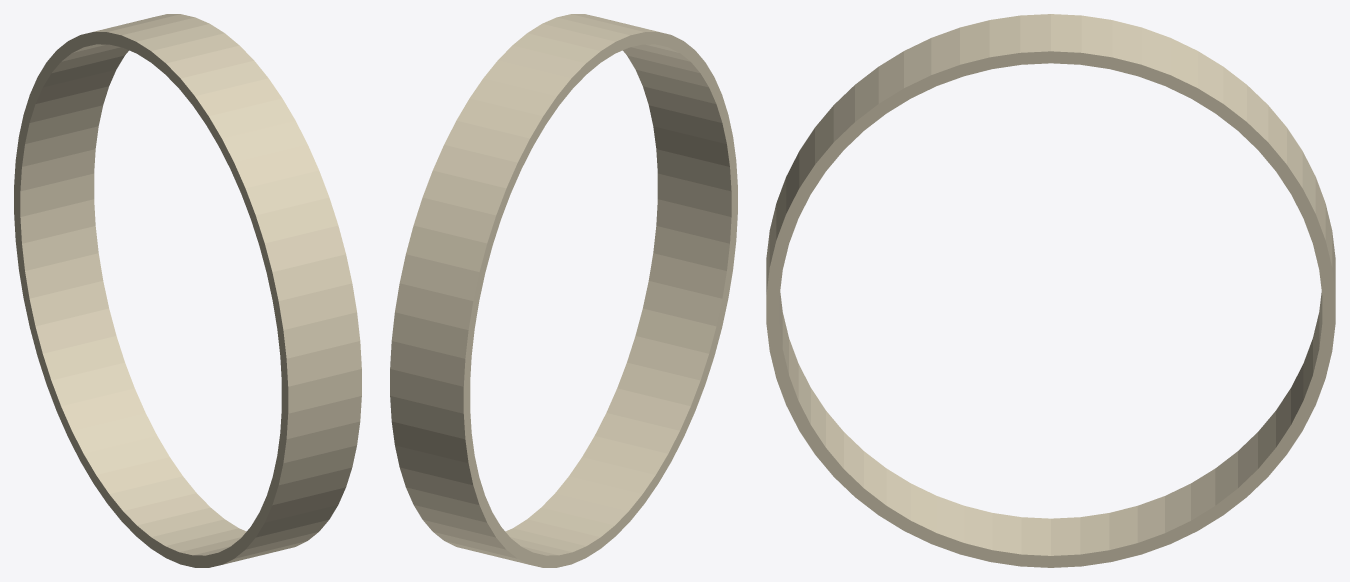
The model's file is ac-compressor-piston-3-front-seal.glb.
3 renders of one model, left to right at view 1: azimuth 30°, elevation 25°; view 2: azimuth 150°, elevation 25°; view 3: azimuth 270°, elevation 25°, orthographic. The views are drawn at different scales.
Visible parts, largest first — view 1: world; view 2: world; view 3: world.
Boxes of the visible parts, x1,y1,x2,y2 form: world: (14,14,361,567); world: (390,14,737,567); world: (766,14,1335,567).
Size of the model in its own units: 0.004 by 0.0258 by 0.0258.
